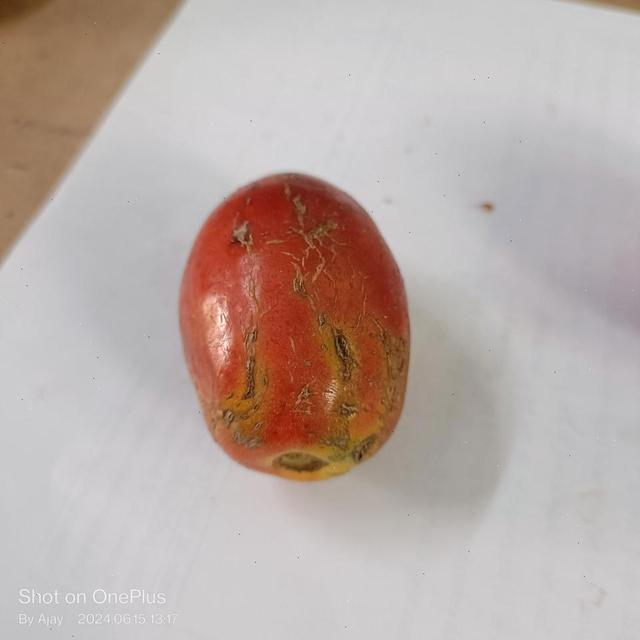Bacterial Spot Fruit: (8, 9, 232, 279)
